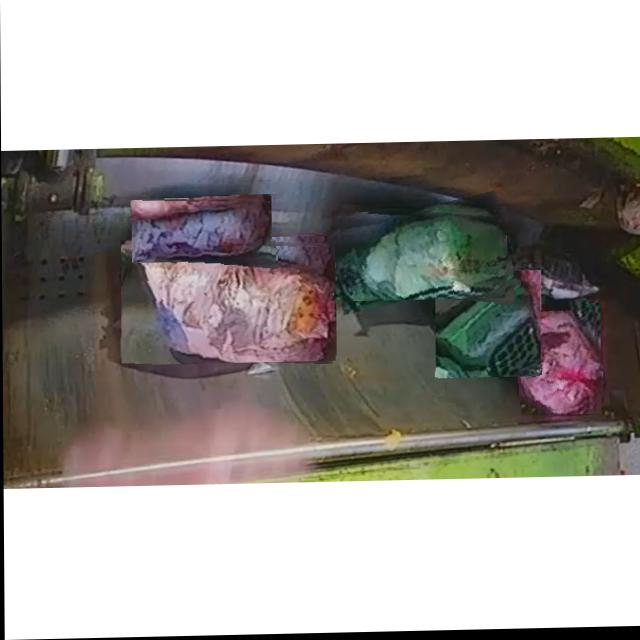general_trashbag: (335, 213, 505, 302), (438, 279, 539, 379)
other_trashbag: (128, 237, 336, 364), (515, 313, 601, 413), (132, 201, 270, 263)
